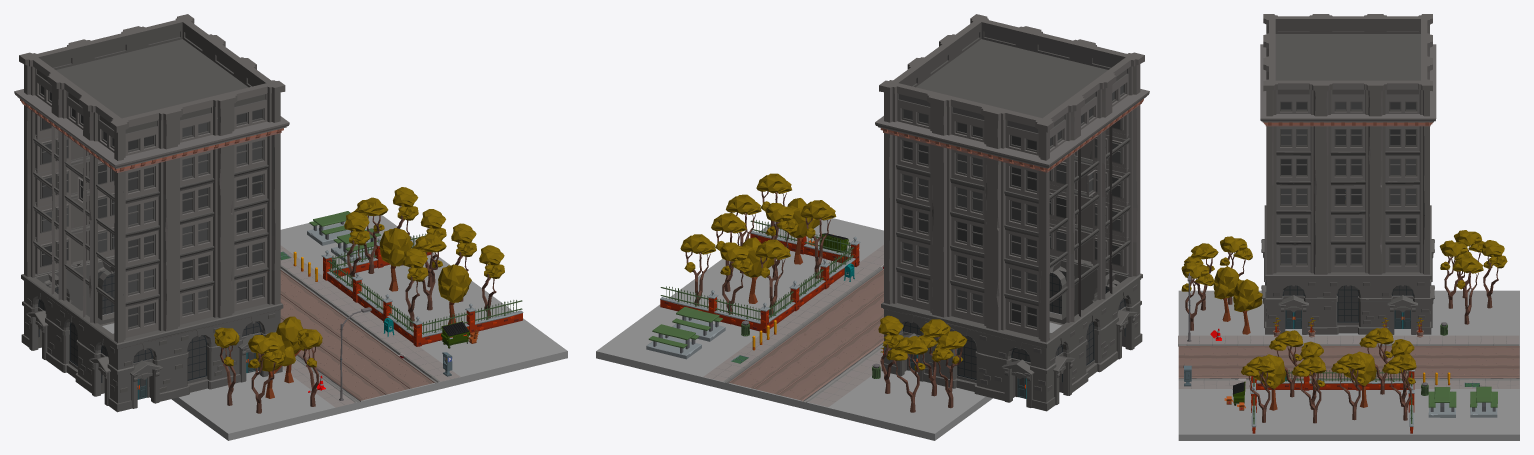
Rendered from City Area 4.fbx.
3 renders of one model, left to right at view 1: azimuth 30°, elevation 25°; view 2: azimuth 150°, elevation 25°; view 3: azimuth 270°, elevation 25°, orthographic. The views are drawn at different scales.
Visible parts, largest first — view 1: SM_Bld_OfficeOld_Large_01.003, Plane.004, SM_Env_Sidewalk_Straight_01.203, SM_Env_Tree_02.033, SM_Env_Tree_03.020, SM_Env_Tree_03.008, SM_Prop_PicnicTable_01, SM_Env_Tree_02.036, SM_Env_Tree_02.034, SM_Env_Fence_01.003, SM_Env_Tree_02.011, SM_Env_Tree_02.015 (+13 smaller); view 2: SM_Bld_OfficeOld_Large_01.003, Plane.004, SM_Env_Sidewalk_Straight_01.203, SM_Prop_PicnicTable_01, SM_Prop_PicnicTable_01.001, SM_Env_Tree_02.016, SM_Env_Tree_02.025, SM_Env_Tree_02.010, SM_Env_Tree_02.036, SM_Env_Tree_02.011, SM_Env_Tree_02.012, SM_Env_Tree_02.035 (+12 smaller); view 3: SM_Bld_OfficeOld_Large_01.003, Plane.004, SM_Env_Sidewalk_Straight_01.203, SM_Env_Tree_02.009, SM_Env_Tree_02.012, SM_Env_Tree_02.015, SM_Env_Tree_02.034, SM_Env_Tree_02.037, SM_Prop_PicnicTable_01.001, SM_Prop_PicnicTable_01, SM_Env_Tree_03.035, SM_Env_Tree_02.011 (+13 smaller).
Part boxes in pixels (x1=…): SM_Bld_OfficeOld_Large_01.003: x1=14, y1=14, x2=289, y2=412; Plane.004: x1=102, y1=215, x2=567, y2=440; SM_Env_Sidewalk_Straight_01.203: x1=276, y1=245, x2=460, y2=407; SM_Env_Tree_02.033: x1=248, y1=335, x2=283, y2=413; SM_Env_Tree_03.020: x1=438, y1=264, x2=471, y2=324; SM_Env_Tree_03.008: x1=379, y1=228, x2=413, y2=291; SM_Prop_PicnicTable_01: x1=307, y1=211, x2=352, y2=245; SM_Env_Tree_02.036: x1=402, y1=248, x2=428, y2=326; SM_Env_Tree_02.034: x1=479, y1=245, x2=504, y2=318; SM_Env_Fence_01.003: x1=475, y1=300, x2=523, y2=331; SM_Env_Tree_02.011: x1=344, y1=211, x2=369, y2=284; SM_Env_Tree_02.015: x1=297, y1=328, x2=322, y2=406; SM_Bld_OfficeOld_Large_01.003: x1=875, y1=14, x2=1149, y2=411; Plane.004: x1=596, y1=218, x2=1061, y2=440; SM_Env_Sidewalk_Straight_01.203: x1=703, y1=245, x2=883, y2=407; SM_Prop_PicnicTable_01: x1=646, y1=324, x2=701, y2=359; SM_Prop_PicnicTable_01.001: x1=672, y1=307, x2=725, y2=341; SM_Env_Tree_02.016: x1=886, y1=336, x2=927, y2=412; SM_Env_Tree_02.025: x1=931, y1=331, x2=967, y2=408; SM_Env_Tree_02.010: x1=720, y1=242, x2=753, y2=313; SM_Env_Tree_02.036: x1=800, y1=200, x2=836, y2=278; SM_Env_Tree_02.011: x1=755, y1=239, x2=790, y2=315; SM_Env_Tree_02.012: x1=680, y1=234, x2=715, y2=305; SM_Env_Tree_02.035: x1=765, y1=203, x2=798, y2=280; SM_Bld_OfficeOld_Large_01.003: x1=1260, y1=14, x2=1436, y2=334; Plane.004: x1=1178, y1=290, x2=1519, y2=440; SM_Env_Sidewalk_Straight_01.203: x1=1178, y1=273, x2=1519, y2=388; SM_Env_Tree_02.009: x1=1331, y1=353, x2=1365, y2=420; SM_Env_Tree_02.012: x1=1382, y1=354, x2=1416, y2=420; SM_Env_Tree_02.015: x1=1181, y1=262, x2=1214, y2=330; SM_Env_Tree_02.034: x1=1241, y1=356, x2=1274, y2=422; SM_Env_Tree_02.037: x1=1292, y1=356, x2=1325, y2=423; SM_Prop_PicnicTable_01.001: x1=1428, y1=387, x2=1456, y2=417; SM_Prop_PicnicTable_01: x1=1470, y1=386, x2=1497, y2=417; SM_Env_Tree_03.035: x1=1213, y1=266, x2=1240, y2=321; SM_Env_Tree_02.011: x1=1359, y1=327, x2=1393, y2=394.
Size of the model in its own units: 11954 by 8282 by 10019.
